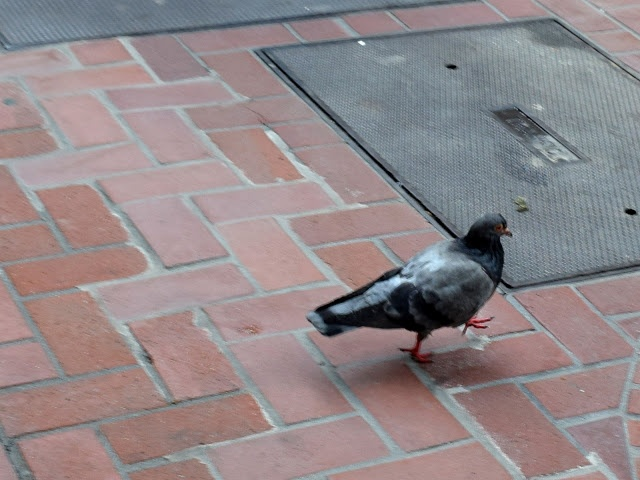Pigeon: (306, 206, 518, 367)
